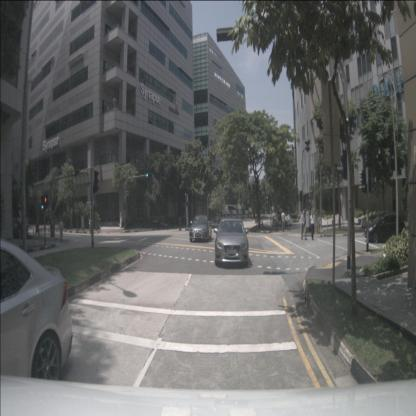human-pedestrian-adult: (300, 210, 308, 240), (58, 218, 64, 243), (310, 211, 315, 240), (282, 210, 286, 232), (274, 211, 278, 232), (284, 213, 288, 232), (88, 218, 92, 234)
vehicle-car: (0, 237, 73, 403), (214, 218, 248, 266), (364, 212, 406, 245), (189, 216, 212, 243)
